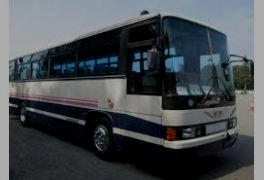bus: (10, 12, 238, 166)
